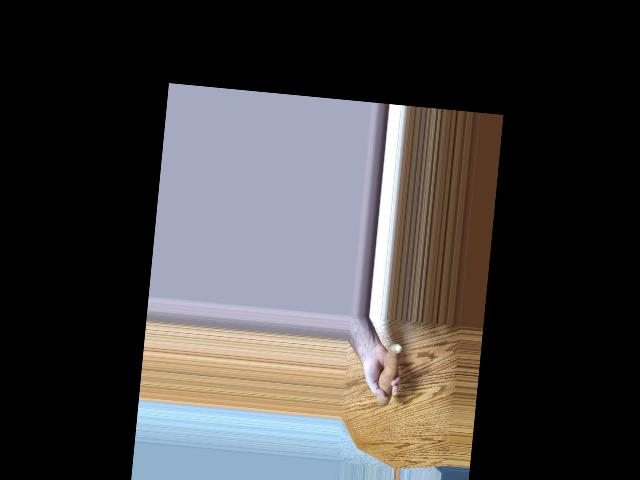sweet_potato: (372, 340, 400, 412)
